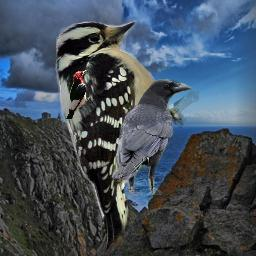Crow: (110, 79, 192, 195)
Woodpecker: (52, 16, 199, 255), (65, 69, 90, 119)
